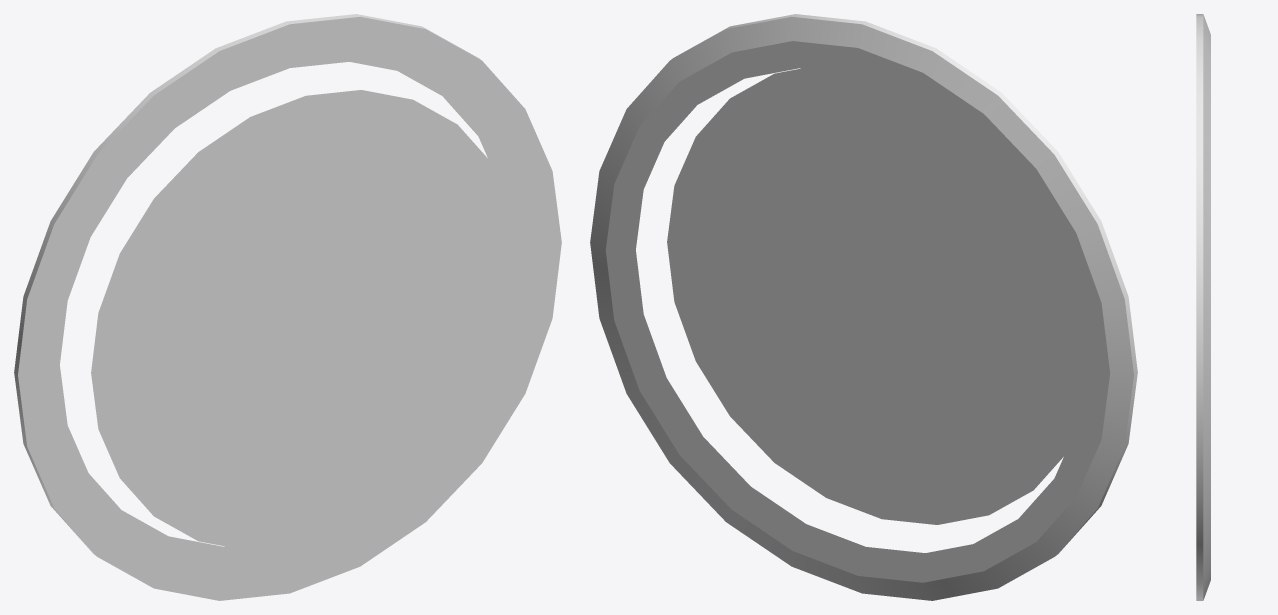
Rendered from Light_Deng6_5X5_on.FBX.
3 views of the same model, side by side, from view 1: azimuth 30°, elevation 25°; view 2: azimuth 150°, elevation 25°; view 3: azimuth 270°, elevation 25° (orthographic). The views are drawn at different scales.
Visible parts, largest first — view 1: Box001; view 2: Box001; view 3: Box001.
Part boxes in pixels (left/top/right/bottom): Box001: left=14, top=14, right=561, bottom=600; Box001: left=590, top=14, right=1137, bottom=600; Box001: left=1196, top=14, right=1210, bottom=600.
Bounding box in the file's own units: 5.03 × 0.829 × 5.03.
